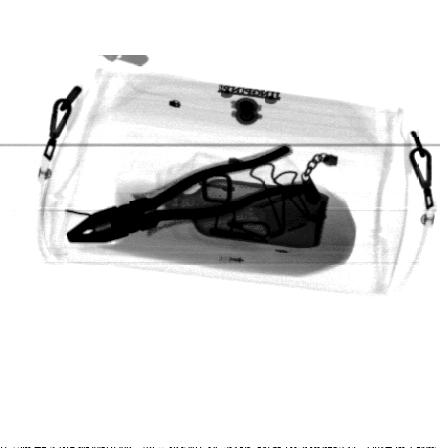Pliers: (65, 142, 315, 244)
